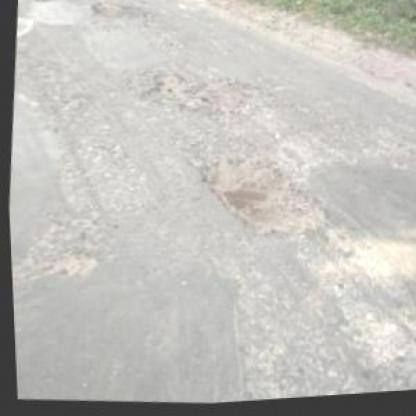pothole: (191, 147, 337, 250), (139, 66, 276, 124), (89, 0, 151, 28), (33, 0, 79, 10)
